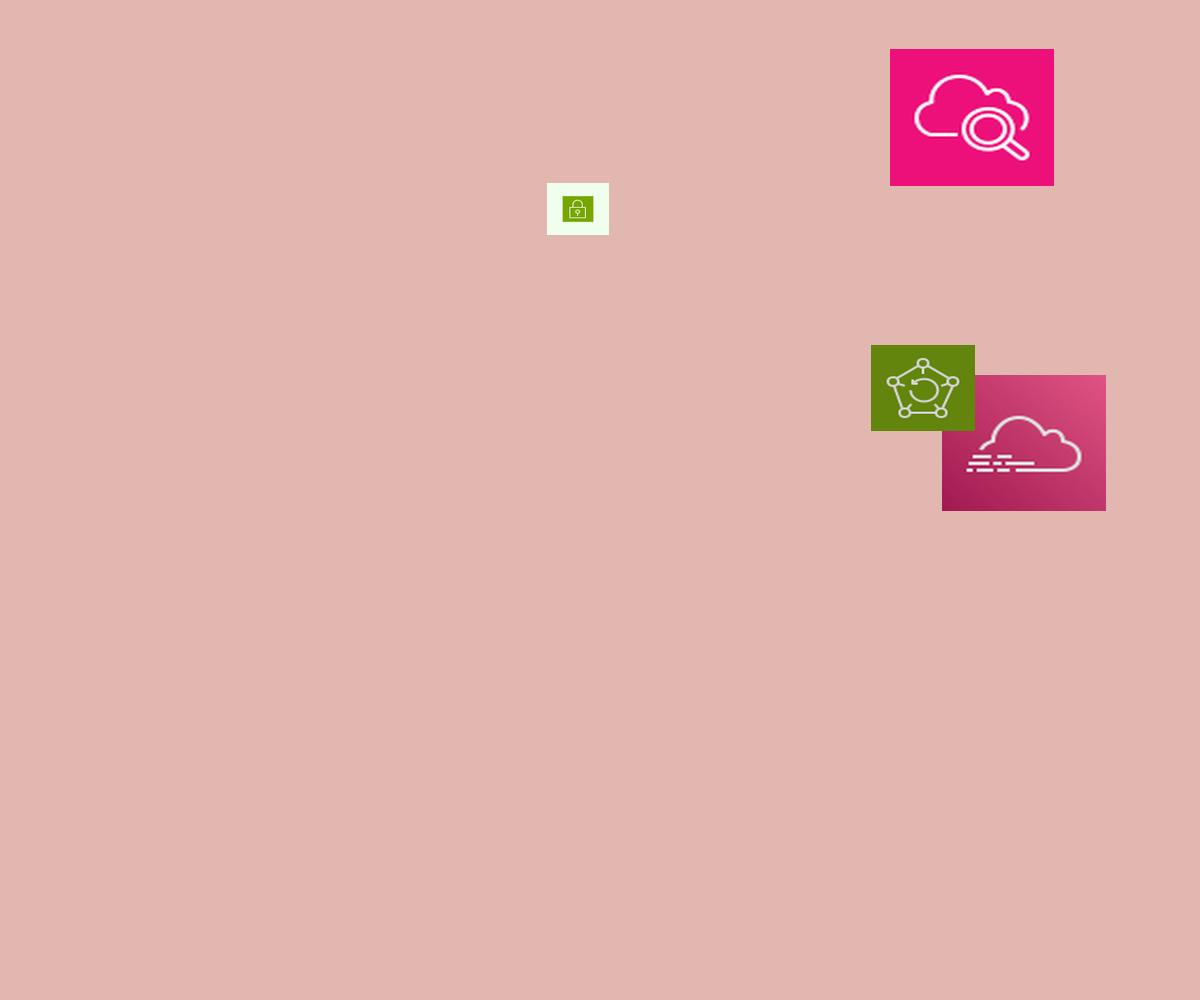AWS-Backup: (871, 345, 975, 431)
AWS-CloudTrail: (942, 375, 1106, 511)
AWS-CloudWatch: (890, 49, 1054, 186)
AWS-Public-subnet: (547, 183, 609, 235)
